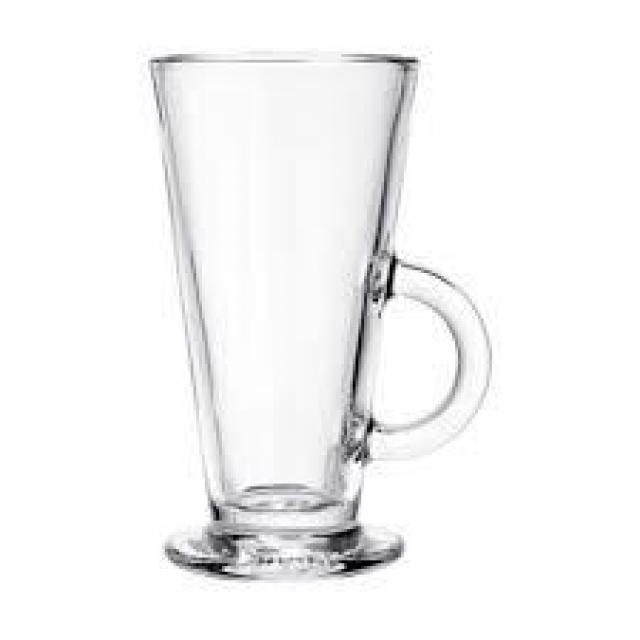non-organic waste: (128, 44, 495, 587)
